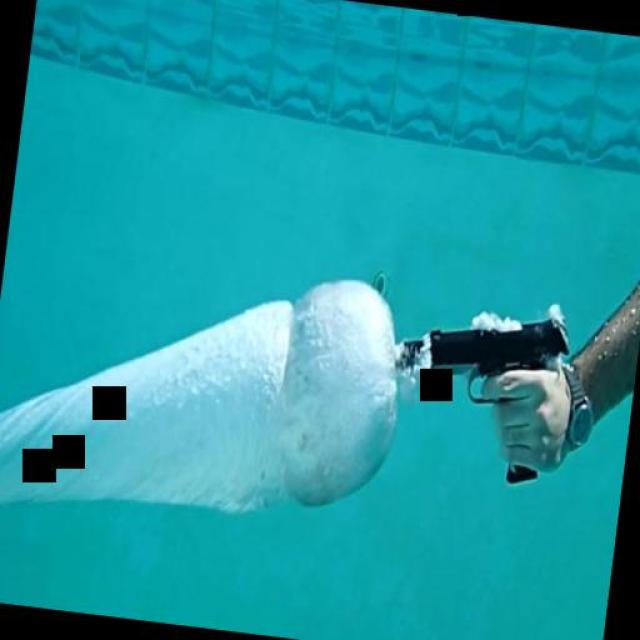gun: (382, 295, 572, 490)
